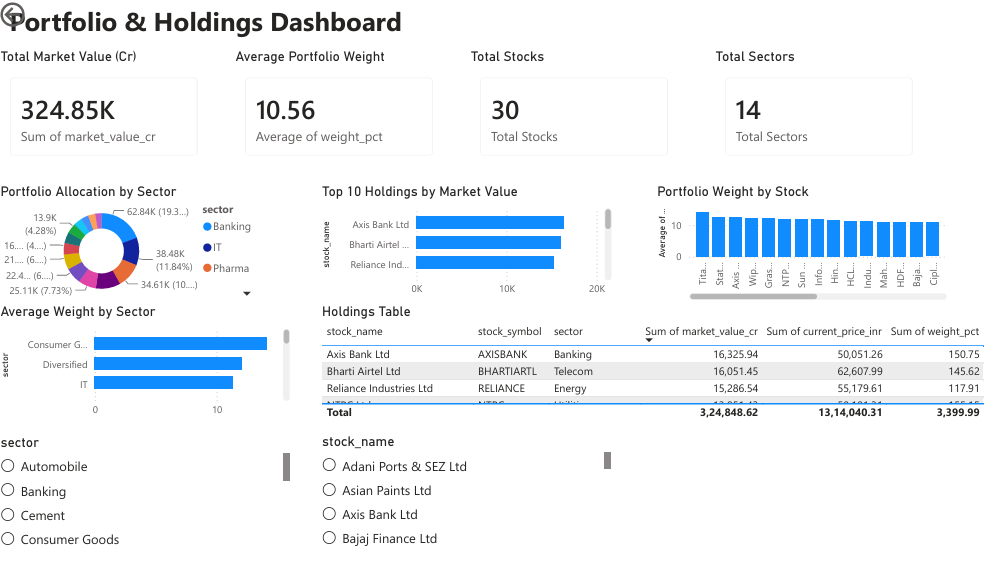

What the dashboard file says about the page in this screenshot:
{"tool":"powerbi","page":{"name":"Portfolio & Holdings","canvas":[1280,720],"ordinal":4},"visuals":[{"type":"textbox","box":[10.7,0,508.6,62.5],"z":0},{"type":"cardVisual","title":"Total Market Value (Cr)","fields":{"Data":["Sum(09_portfolio_holdings.market_value_cr)"]},"box":[0,62.5,265.9,149.9],"z":1000},{"type":"cardVisual","title":"Total Stocks","fields":{"Data":["01_fund_master.Total Stocks"]},"box":[581.7,62.5,265.9,149.9],"z":2000},{"type":"cardVisual","title":"Average Portfolio Weight","fields":{"Data":["Avg(09_portfolio_holdings.weight_pct)"]},"box":[290.9,62.5,265.9,149.9],"z":3000},{"type":"cardVisual","title":"Total Sectors","fields":{"Data":["01_fund_master.Total Sectors"]},"box":[885.1,62.5,265.9,149.9],"z":4000},{"type":"donutChart","title":"Portfolio Allocation by Sector","fields":{"Category":["09_portfolio_holdings.sector"],"Y":["Sum(09_portfolio_holdings.market_value_cr)"]},"box":[0,228.4,367.6,149.9],"z":5000},{"type":"clusteredBarChart","title":"Top 10 Holdings by Market Value","fields":{"Y":["Sum(09_portfolio_holdings.market_value_cr)"],"Category":["09_portfolio_holdings.stock_name"]},"box":[398.5,228.4,368,150],"z":6000},{"type":"clusteredColumnChart","title":"Portfolio Weight by Stock","fields":{"Category":["09_portfolio_holdings.stock_name"],"Y":["Avg(09_portfolio_holdings.weight_pct)"]},"box":[813.2,228.4,368,150],"z":7000},{"type":"clusteredBarChart","title":"Average Weight by Sector","fields":{"Y":["Avg(09_portfolio_holdings.weight_pct)"],"Category":["09_portfolio_holdings.sector"]},"box":[0,377.5,368,150],"z":8000},{"type":"tableEx","title":"Holdings Table","fields":{"Values":["09_portfolio_holdings.stock_name","09_portfolio_holdings.stock_symbol","09_portfolio_holdings.sector","Sum(09_portfolio_holdings.market_value_cr)","Sum(09_portfolio_holdings.current_price_inr)","Sum(09_portfolio_holdings.weight_pct)"]},"box":[398.5,377.5,880.8,149.1],"z":9000},{"type":"actionButton","box":[0,0,100,40],"z":10000},{"type":"listSlicer","fields":{"Values":["09_portfolio_holdings.sector"]},"box":[0,538.5,368,150],"z":11000},{"type":"listSlicer","fields":{"Values":["09_portfolio_holdings.stock_name"]},"box":[398.5,538.3,368,150],"z":12000}]}

Visuals, with their boxes in screenshot pixels (x1, y1, x2, y2), scaled from the page's 1280x720 canvas onto the 1008x573 screenshot:
textbox: [8,0,409,50]
"Total Market Value (Cr)" cardVisual: [0,50,209,169]
"Total Stocks" cardVisual: [458,50,667,169]
"Average Portfolio Weight" cardVisual: [229,50,438,169]
"Total Sectors" cardVisual: [697,50,906,169]
"Portfolio Allocation by Sector" donutChart: [0,182,289,301]
"Top 10 Holdings by Market Value" clusteredBarChart: [314,182,604,301]
"Portfolio Weight by Stock" clusteredColumnChart: [640,182,930,301]
"Average Weight by Sector" clusteredBarChart: [0,300,290,420]
"Holdings Table" tableEx: [314,300,1007,419]
actionButton: [0,0,79,32]
listSlicer - 09_portfolio_holdings.sector: [0,429,290,548]
listSlicer - 09_portfolio_holdings.stock_name: [314,428,604,548]
